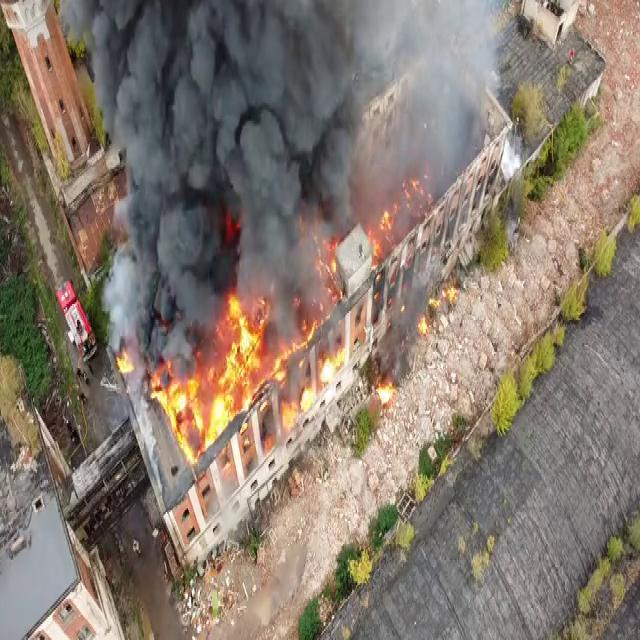fire: (228, 346, 252, 382), (242, 310, 262, 349), (228, 290, 244, 326), (215, 384, 235, 412), (162, 386, 183, 412), (282, 398, 298, 431), (205, 407, 225, 432), (174, 415, 190, 446), (320, 354, 333, 384), (378, 383, 394, 404), (261, 433, 275, 453), (300, 391, 312, 412), (446, 286, 456, 308), (418, 318, 429, 338)
smoke: (237, 105, 355, 217), (205, 0, 288, 101), (279, 0, 355, 110), (136, 1, 211, 104), (181, 103, 240, 189), (113, 252, 175, 326), (170, 186, 222, 274), (346, 0, 394, 85), (425, 0, 493, 60), (136, 108, 184, 188), (416, 77, 461, 162), (128, 179, 174, 261), (96, 56, 146, 111), (242, 226, 291, 280), (390, 1, 430, 56), (90, 6, 131, 58), (136, 320, 188, 360), (455, 42, 481, 118), (170, 284, 212, 329), (286, 234, 316, 287), (60, 2, 86, 40), (104, 104, 136, 132), (274, 296, 292, 328)
